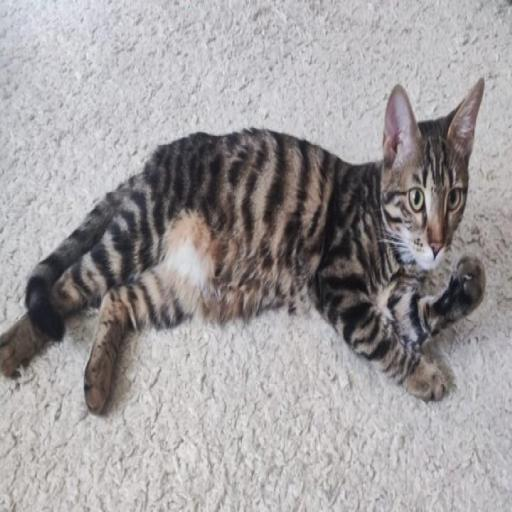cats: (0, 78, 485, 413)
